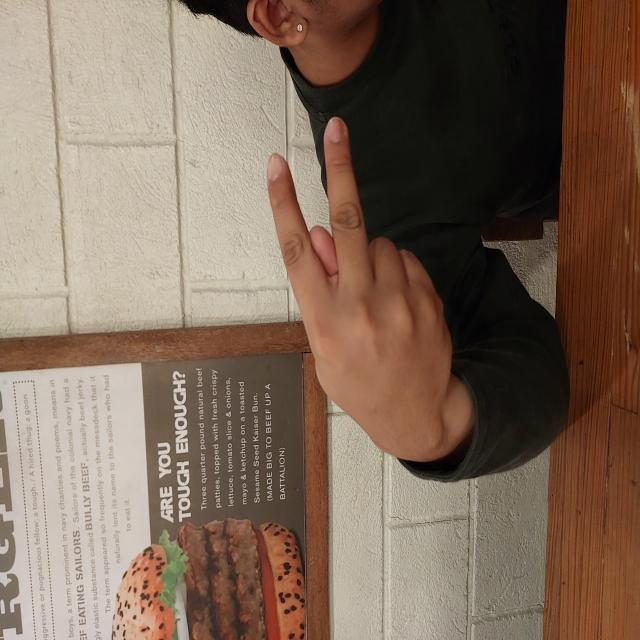K: (184, 265, 526, 454)
